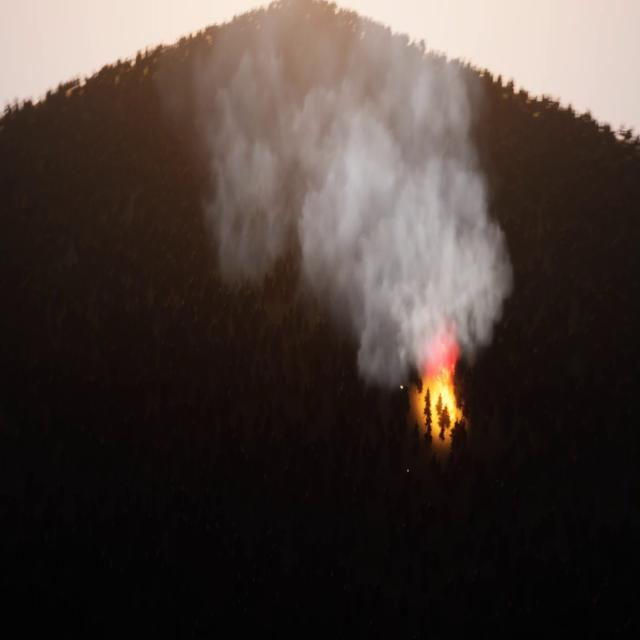fire: (421, 354, 468, 444)
smoke: (157, 0, 517, 383)
